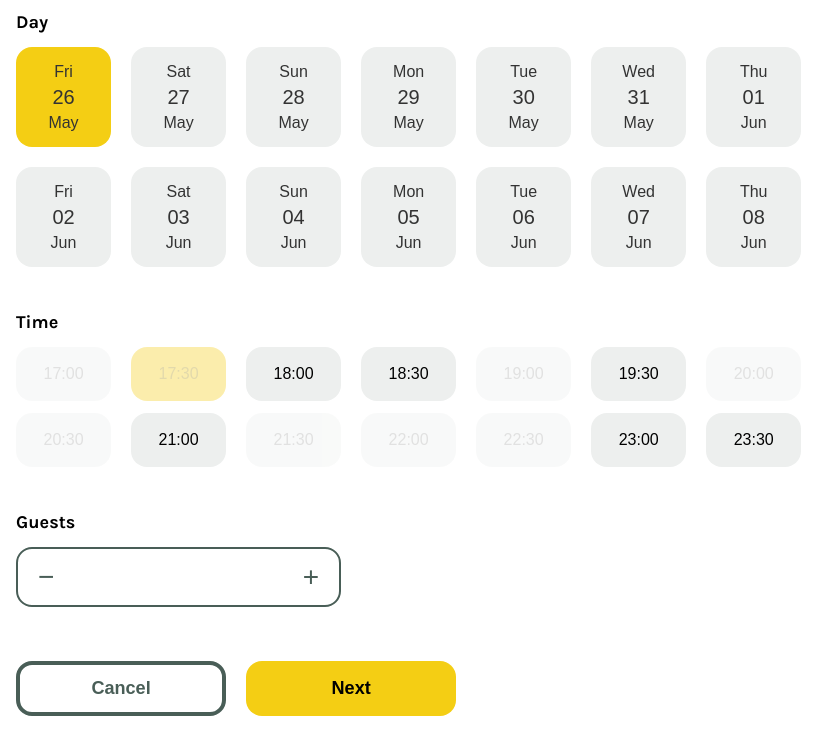
Test: BookingFormStepOne › SHOULD produce guest error message WHEN guest input value is not valid
Step 1. Click the button "Next" → coordinates (351, 689), box [246, 662, 456, 716]
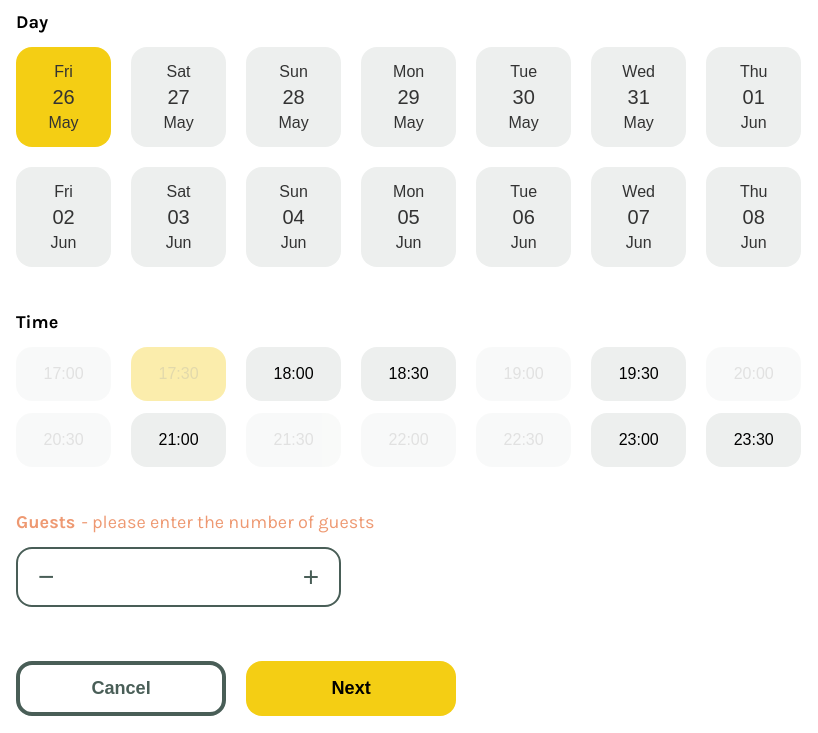
Expected: the text "please enter the number of guests" is shown, [82, 511, 375, 533]
